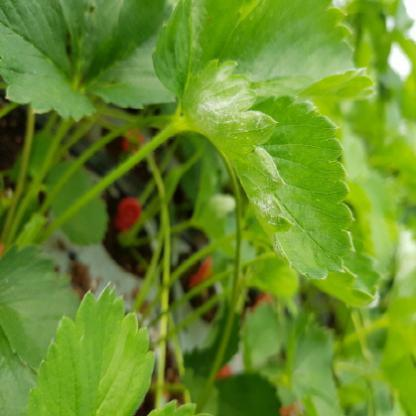Strawberry_Powdery_Mildew_Leaf: (182, 57, 356, 281)
